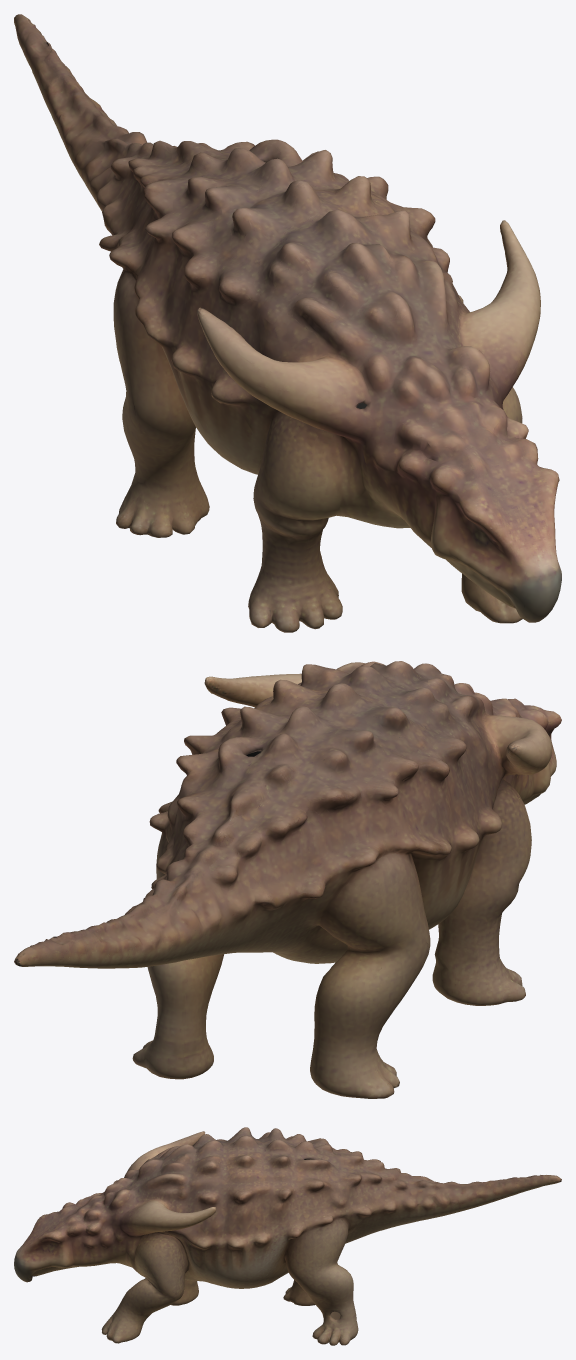
3 views of the same model, one above another, from view 1: azimuth 30°, elevation 25°; view 2: azimuth 150°, elevation 25°; view 3: azimuth 270°, elevation 25° (orthographic). The views are drawn at different scales.
Parts seen in each view (by area): view 1: world; view 2: world; view 3: world.
Boxes of the visible parts, x1,y1,x2,y2 form: world: (14,14,561,632); world: (14,661,561,1098); world: (14,1127,561,1345).
Size of the model in its own units: 1.89 by 2.03 by 5.5.
1 material, 1 textured.
